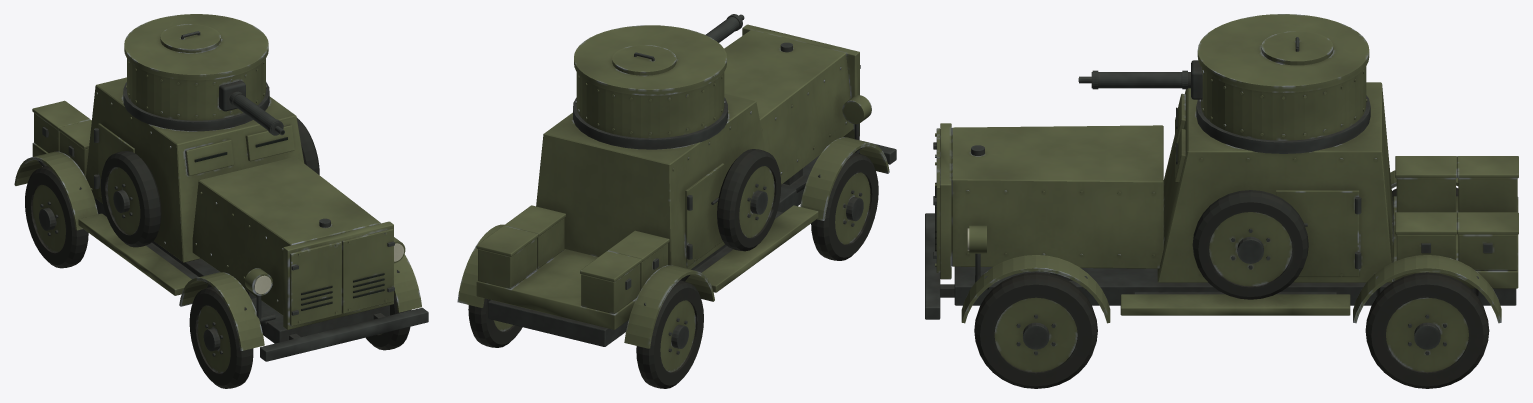
3 renders of one model, left to right at view 1: azimuth 30°, elevation 25°; view 2: azimuth 150°, elevation 25°; view 3: azimuth 270°, elevation 25°, orthographic. The views are drawn at different scales.
Visible parts, largest first — view 1: Long_armoured_bonnet, Riveted_crew_body, Turret_roof, Round_riveted_turret, Spare_R_Tyre, Wheel_Front_R_Tyre, Wheel_Rear_R_Tyre, Radiator_door_L, Radiator_door_R, Chassis, Front_crossmember, Mudguard_Front_R (+18 smaller); view 2: Riveted_crew_body, Long_armoured_bonnet, Turret_roof, Round_riveted_turret, Spare_R_Tyre, Rear_cargo_deck, Wheel_Rear_R_Tyre, Wheel_Front_R_Tyre, Chassis, Mudguard_Rear_R, Crew_door_R, Running_board_R (+16 smaller); view 3: Long_armoured_bonnet, Riveted_crew_body, Wheel_Front_L_Tyre, Wheel_Rear_L_Tyre, Spare_L_Tyre, Turret_roof, Round_riveted_turret, Chassis, Crew_door_L, Running_board_L, Mudguard_Rear_L, Mudguard_Front_L (+16 smaller).
Part boxes in pixels (bbox=[...]): Long_armoured_bonnet: bbox=[192, 157, 380, 315]; Riveted_crew_body: bbox=[86, 77, 304, 262]; Turret_roof: bbox=[124, 14, 268, 80]; Round_riveted_turret: bbox=[126, 58, 266, 120]; Spare_R_Tyre: bbox=[101, 151, 161, 247]; Wheel_Front_R_Tyre: bbox=[189, 286, 253, 388]; Wheel_Rear_R_Tyre: bbox=[25, 166, 88, 268]; Radiator_door_L: bbox=[342, 228, 394, 313]; Radiator_door_R: bbox=[290, 241, 341, 326]; Chassis: bbox=[94, 197, 389, 343]; Front_crossmember: bbox=[260, 307, 428, 361]; Mudguard_Front_R: bbox=[179, 272, 264, 350]; Riveted_crew_body: bbox=[536, 93, 765, 269]; Long_armoured_bonnet: bbox=[724, 30, 853, 184]; Turret_roof: bbox=[574, 25, 726, 95]; Round_riveted_turret: bbox=[575, 72, 725, 138]; Spare_R_Tyre: bbox=[717, 149, 781, 251]; Rear_cargo_deck: bbox=[476, 249, 636, 329]; Wheel_Rear_R_Tyre: bbox=[636, 280, 703, 388]; Wheel_Front_R_Tyre: bbox=[811, 152, 878, 260]; Chassis: bbox=[488, 155, 819, 346]; Mudguard_Rear_R: bbox=[624, 265, 714, 348]; Crew_door_R: bbox=[685, 163, 724, 267]; Running_board_R: bbox=[701, 205, 818, 292]; Long_armoured_bonnet: bbox=[951, 125, 1163, 268]; Riveted_crew_body: bbox=[1157, 82, 1393, 282]; Wheel_Front_L_Tyre: bbox=[974, 272, 1097, 388]; Wheel_Rear_L_Tyre: bbox=[1365, 272, 1489, 388]; Spare_L_Tyre: bbox=[1192, 190, 1308, 299]; Turret_roof: bbox=[1197, 14, 1369, 92]; Round_riveted_turret: bbox=[1199, 66, 1367, 140]; Chassis: bbox=[940, 266, 1516, 305]; Crew_door_L: bbox=[1276, 190, 1361, 276]; Running_board_L: bbox=[1120, 294, 1350, 315]; Mudguard_Rear_L: bbox=[1353, 255, 1501, 323]; Mudguard_Front_L: bbox=[961, 255, 1110, 323].
Size of the model in its own units: 1.99 by 2.61 by 4.71.
1 material, 1 textured.
